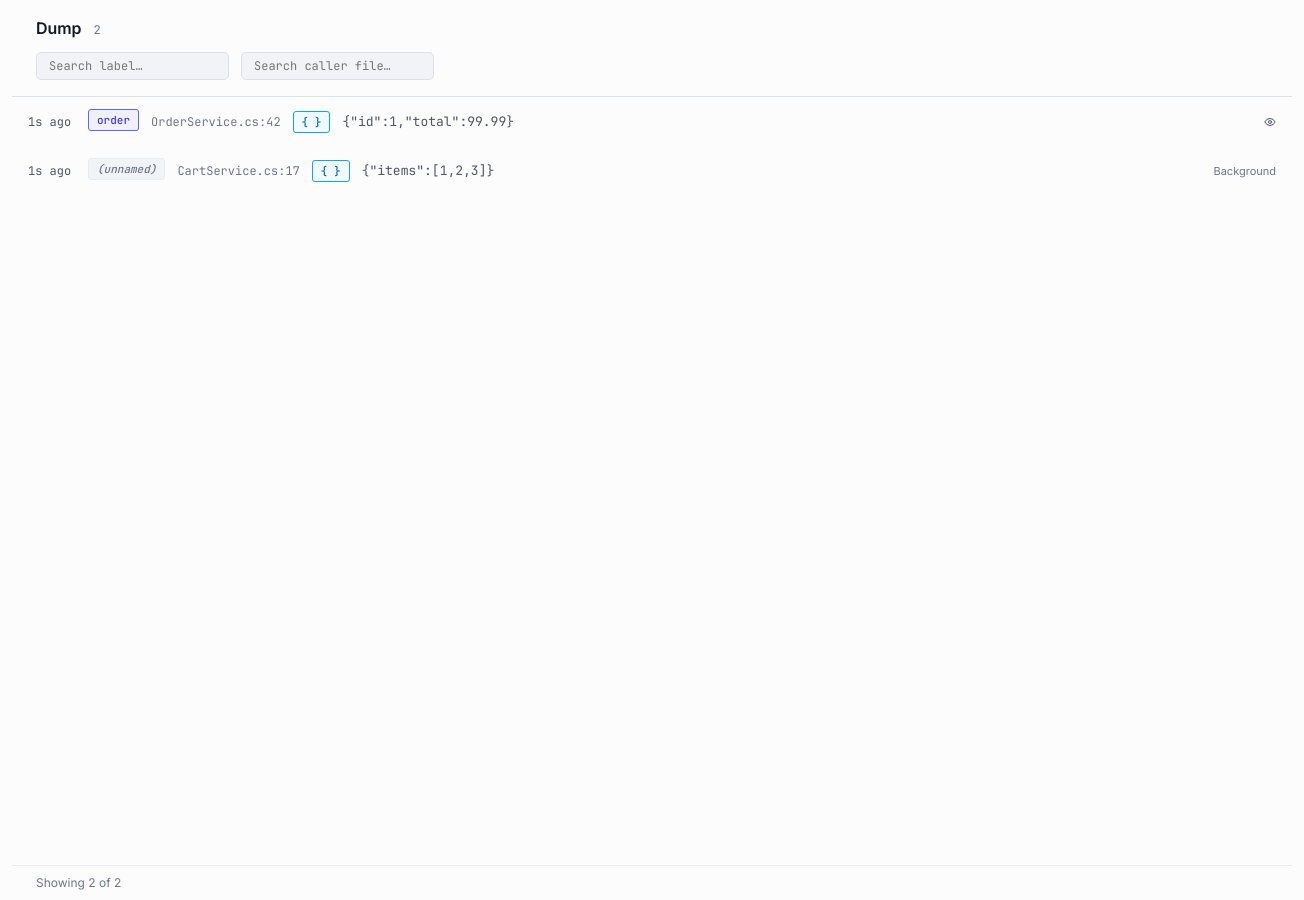
DumpPage › expands row to show pretty-printed JSON when clicked
This screenshot has width=1304, height=900.
Expected: the text "order" is shown, [88,109,139,131]
What coordinates should you click on to do the following:
click the button "1s ago order OrderService.cs:42 { } {\"id\":1,\"total\":99.99}"
I would click on:
 (50, 122)
Its box is [12,97,1292,146].
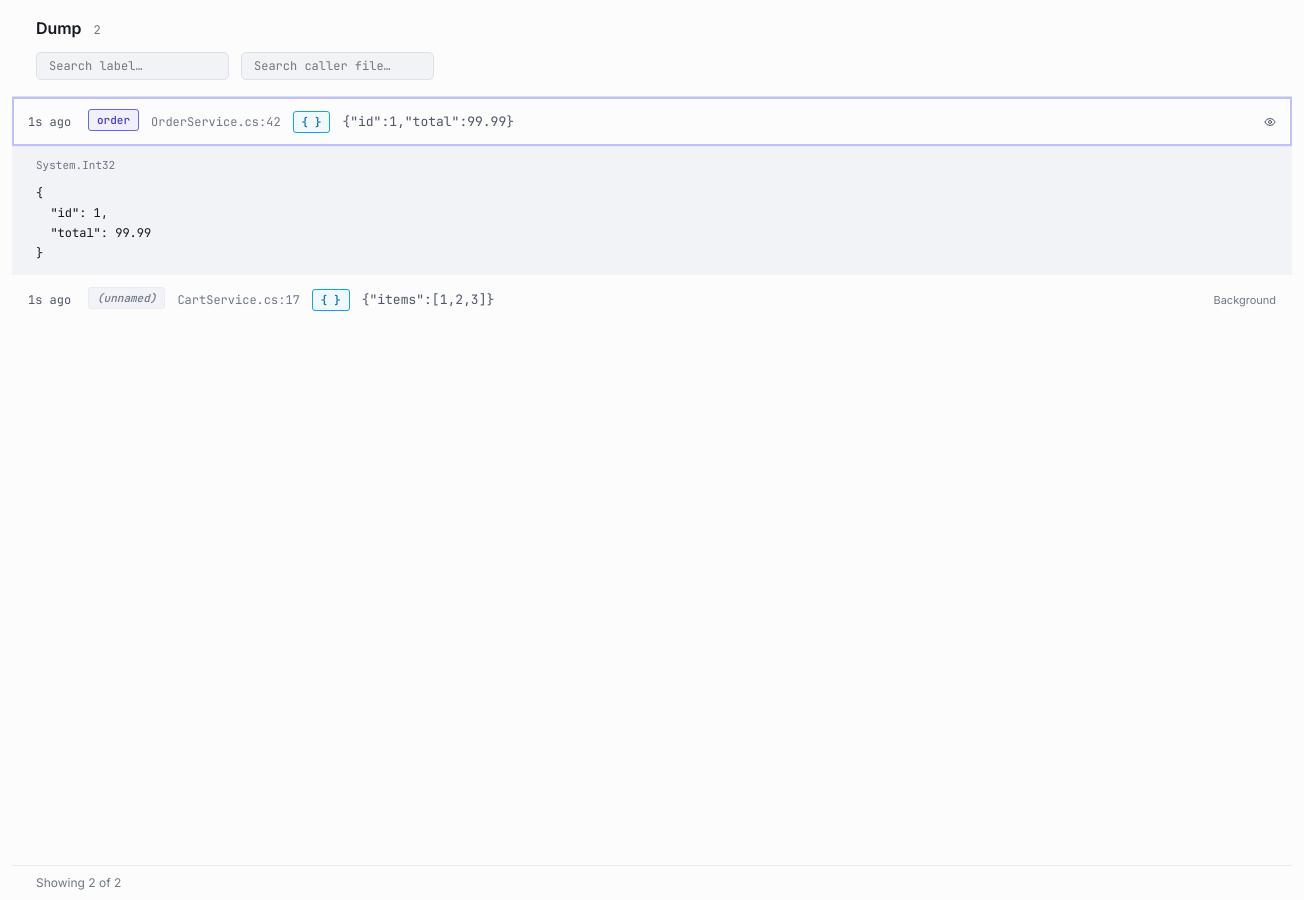
Result: the element with test id "expand-id-1" is shown at [12,146,1292,275]
Result: the text "{ \"id\": 1, \"total\": 99.99 }" shows "\"id\": 1" at [36,185,151,261]
Result: the text "{ \"id\": 1, \"total\": 99.99 }" shows "\"total\": 99.99" at [36,185,151,261]
